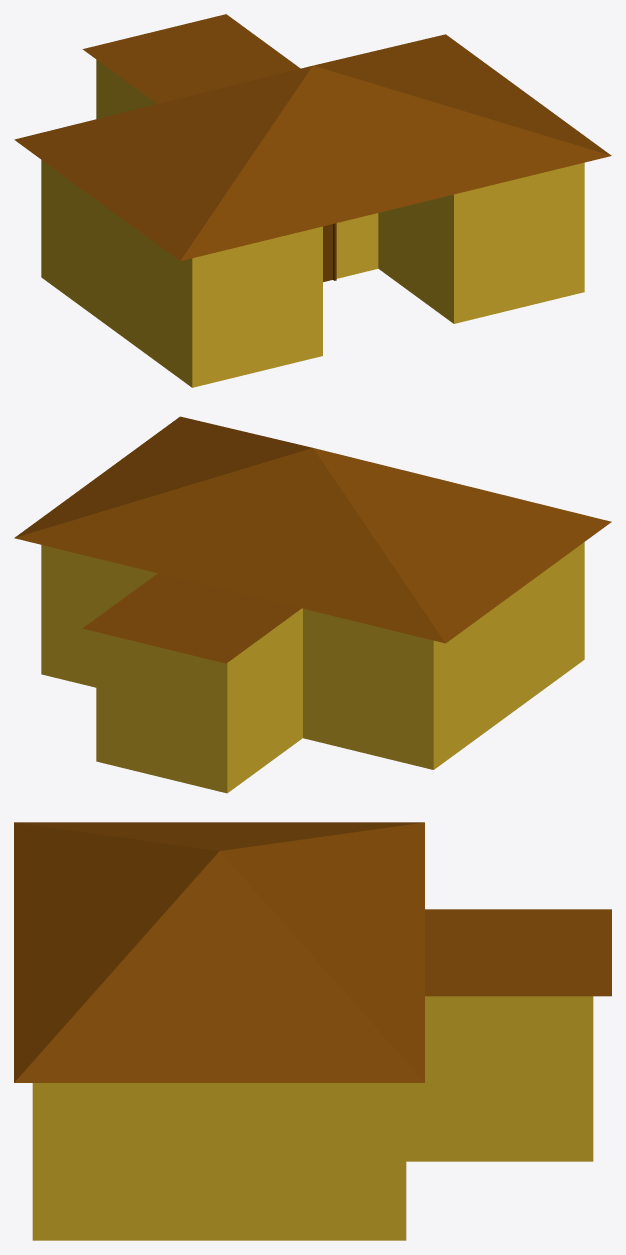
Rendered from casinha4.fbx.
The picture shows the model from 3 angles, top to bottom: view 1: azimuth 30°, elevation 25°; view 2: azimuth 150°, elevation 25°; view 3: azimuth 270°, elevation 25°; orthographic projection. The views are drawn at different scales.
Visible parts, largest first — view 1: Cube.004; view 2: Cube.004; view 3: Cube.004.
Boxes of the visible parts, x1,y1,x2,y2 form: Cube.004: (14,14,611,387); Cube.004: (14,416,611,793); Cube.004: (14,822,611,1240).
Bounding box in the file's own units: 1650 × 800 × 1600.
